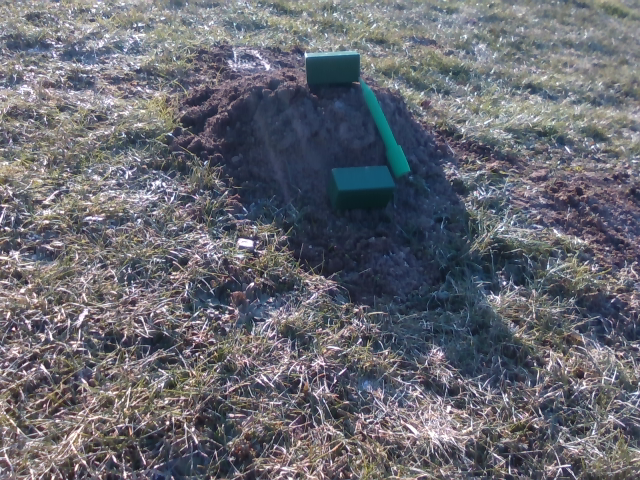Probe: (357, 75, 413, 187)
